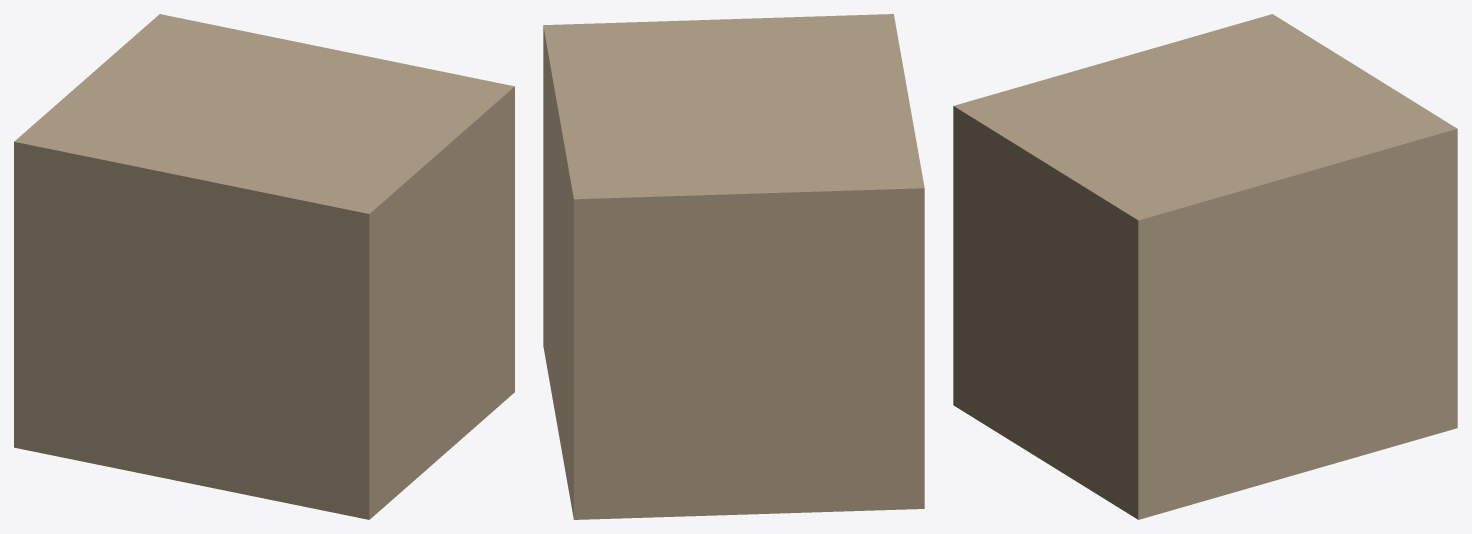
The model's file is bld_163484250.dae.
3 views of the same model, side by side, from view 1: azimuth 30°, elevation 25°; view 2: azimuth 150°, elevation 25°; view 3: azimuth 270°, elevation 25° (orthographic). The views are drawn at different scales.
Visible parts, largest first — view 1: bld_163484250; view 2: bld_163484250; view 3: bld_163484250.
Part boxes in pixels (x1,y1,x2,y2): bld_163484250: (14,14,514,519); bld_163484250: (543,14,924,519); bld_163484250: (953,14,1457,519).
Size of the model in its own units: 11.83 by 12.2 by 8.
